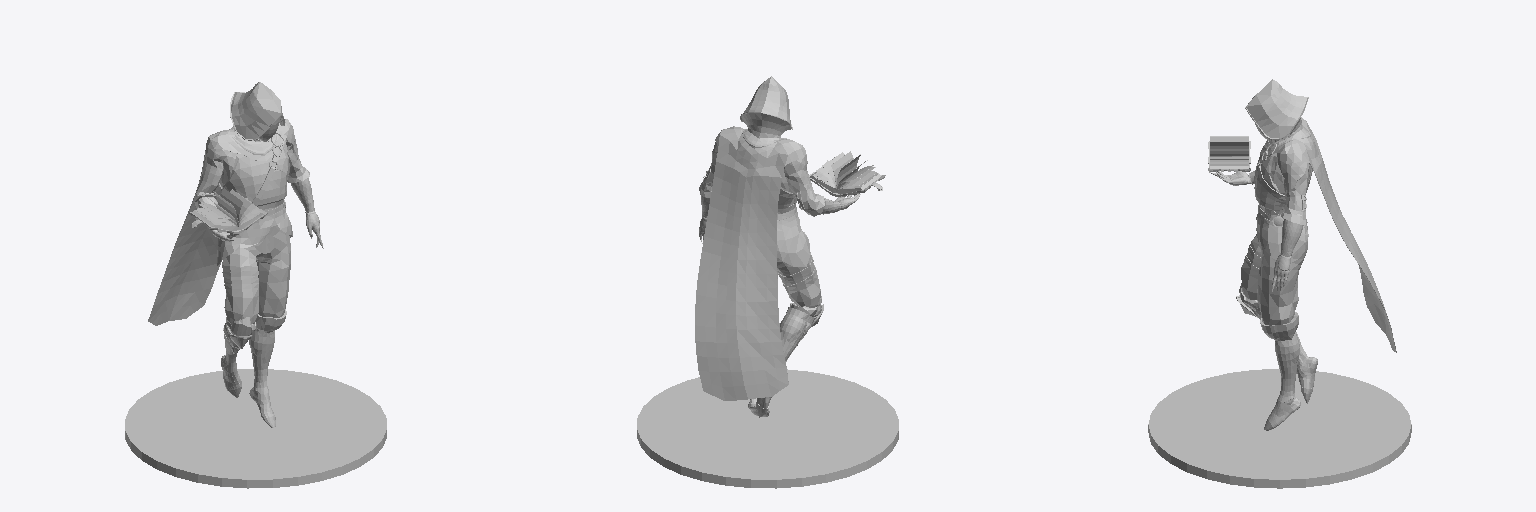
File: Virius.obj
3 views of the same model, side by side, from view 1: azimuth 30°, elevation 25°; view 2: azimuth 150°, elevation 25°; view 3: azimuth 270°, elevation 25° (orthographic).
Visible parts, largest first — view 1: SK_Retopo; view 2: SK_Retopo; view 3: SK_Retopo.
Boxes of the visible parts, <box> form: SK_Retopo: <box>125,82,386,488</box>; SK_Retopo: <box>637,76,898,488</box>; SK_Retopo: <box>1148,79,1411,488</box>.
Size of the model in its own units: 1.4 by 2.08 by 1.4.